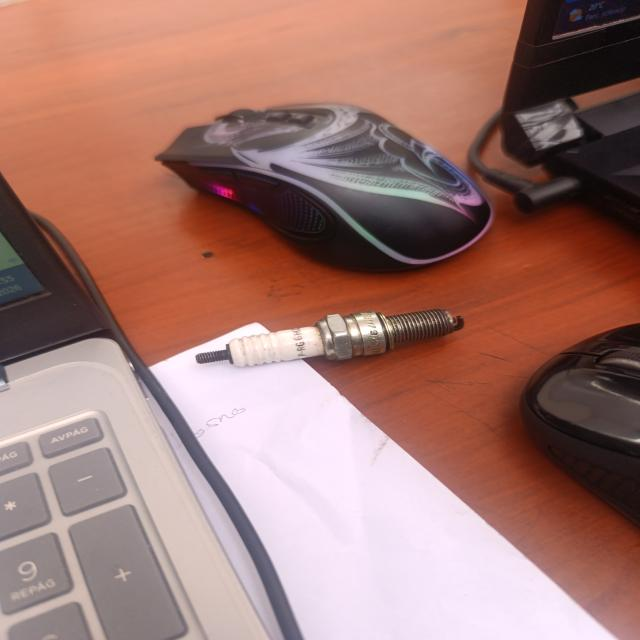Mause: (156, 104, 493, 270), (520, 324, 640, 526)
bujia: (196, 309, 464, 366)
